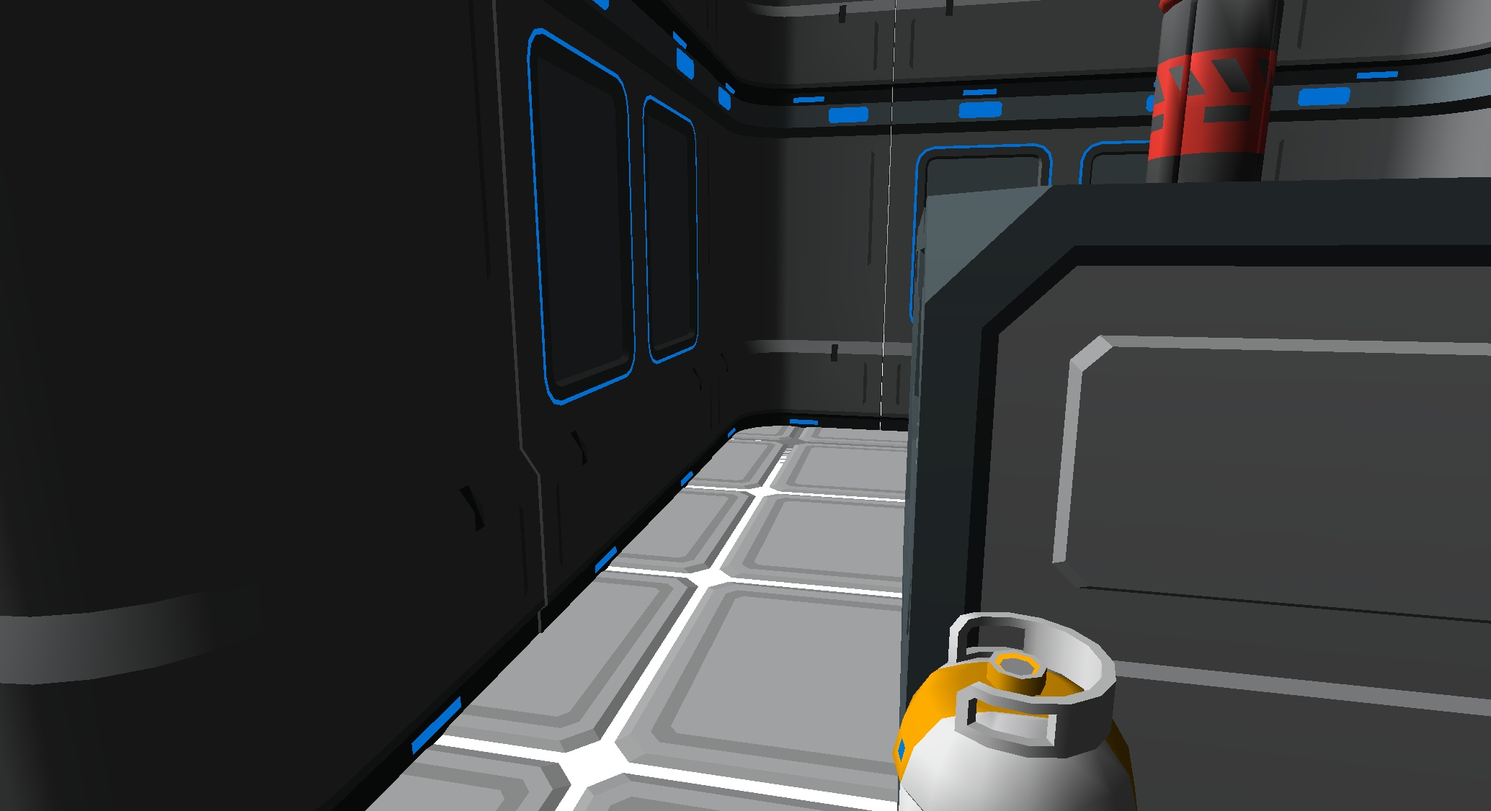red_barrel: (1147, 0, 1282, 182)
yellow_barrel: (894, 613, 1136, 810)
